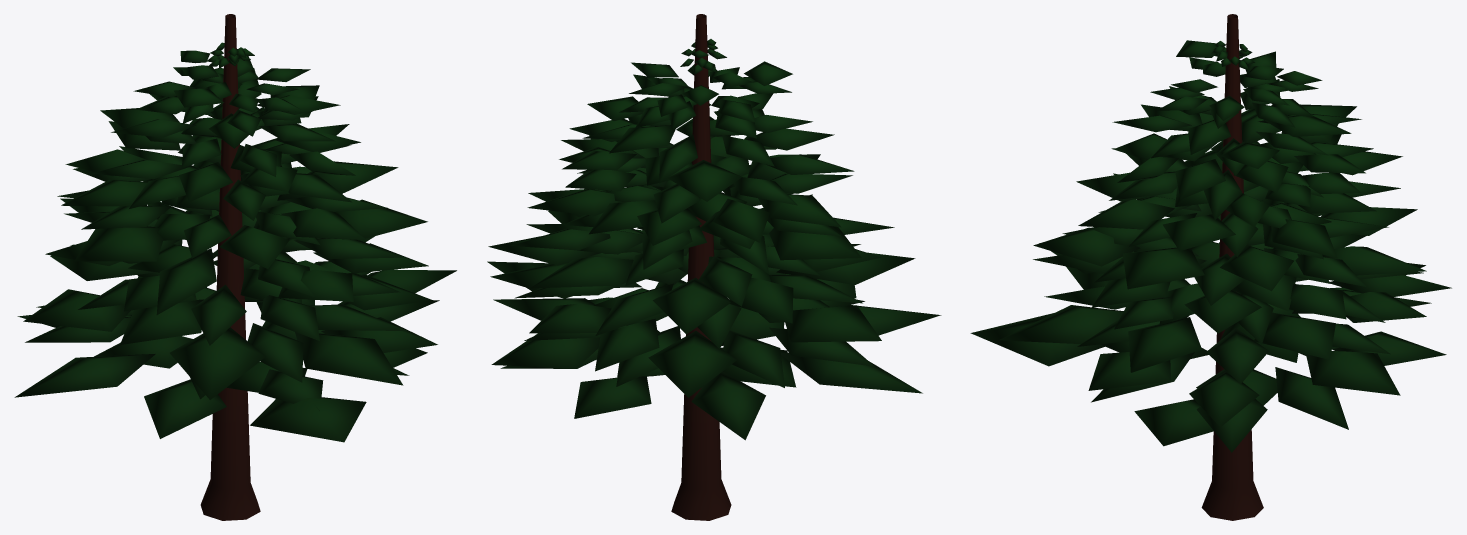
Rendered from pine_lod0.glb.
The picture shows the model from 3 angles, left to right: view 1: azimuth 30°, elevation 25°; view 2: azimuth 150°, elevation 25°; view 3: azimuth 270°, elevation 25°; orthographic projection.
Visible parts, largest first — view 1: lod0.001; view 2: lod0.001; view 3: lod0.001.
Boxes of the visible parts, left/top/right/bottom form: lod0.001: left=14, top=14, right=456, bottom=520; lod0.001: left=487, top=14, right=941, bottom=520; lod0.001: left=970, top=14, right=1451, bottom=520.
Bounding box in the file's own units: 0.952 × 1.02 × 0.904.
